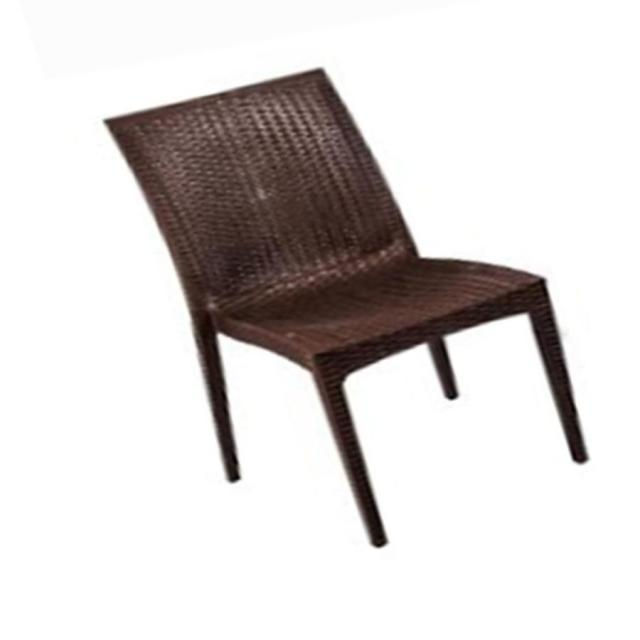chair: (99, 64, 600, 548)
